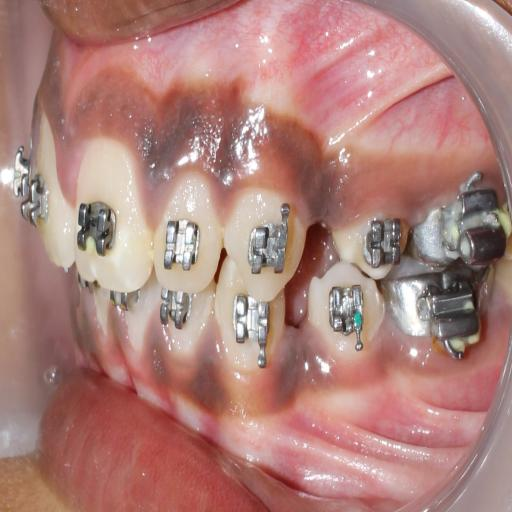correct_brace: (332, 190, 410, 295), (242, 209, 291, 279), (74, 194, 120, 260), (159, 214, 204, 269)
incorrect_brace: (154, 161, 224, 295), (360, 214, 404, 266)
